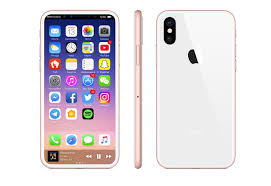iphone: (153, 9, 237, 174)
iphone8: (153, 8, 237, 173), (37, 8, 121, 173)
